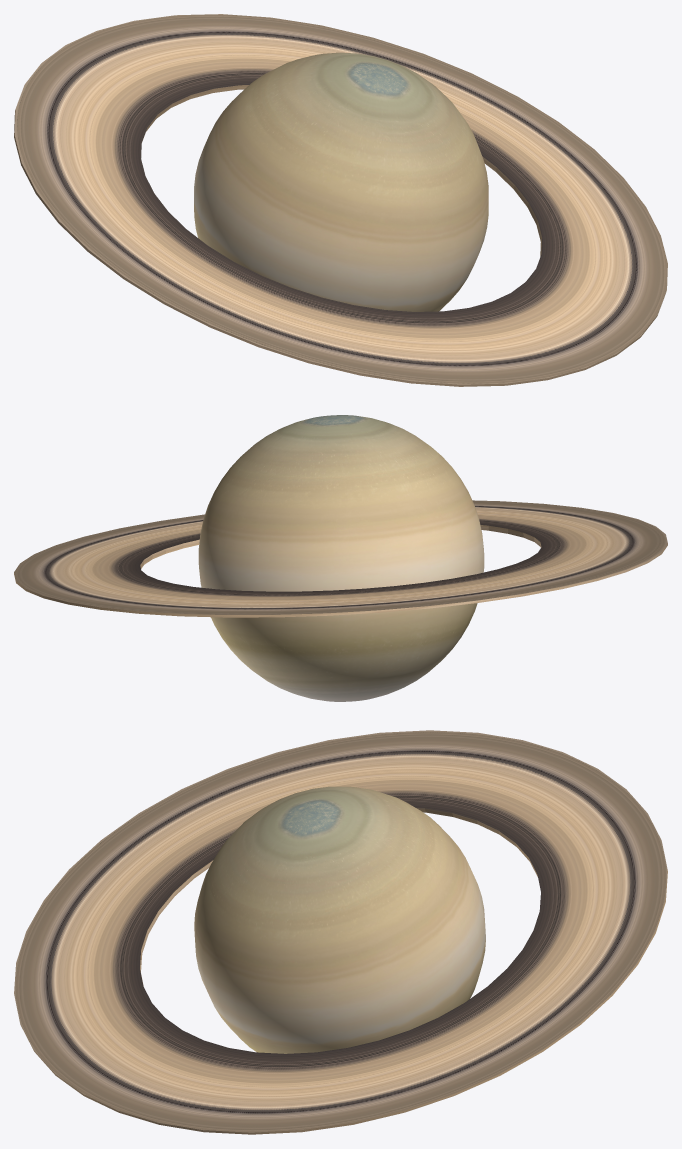
Rendered from Saturn.fbx.
3 views of the same model, one above another, from view 1: azimuth 30°, elevation 25°; view 2: azimuth 150°, elevation 25°; view 3: azimuth 270°, elevation 25° (orthographic). The views are drawn at different scales.
Parts seen in each view (by area): view 1: Saturn; view 2: Saturn; view 3: Saturn.
Part boxes in pixels (x1,y1,x2,y2): Saturn: (14, 14, 667, 386); Saturn: (14, 415, 667, 701); Saturn: (14, 730, 667, 1134).
Size of the model in its own units: 26.67 by 11.85 by 26.52.
2 materials, 2 textured.
